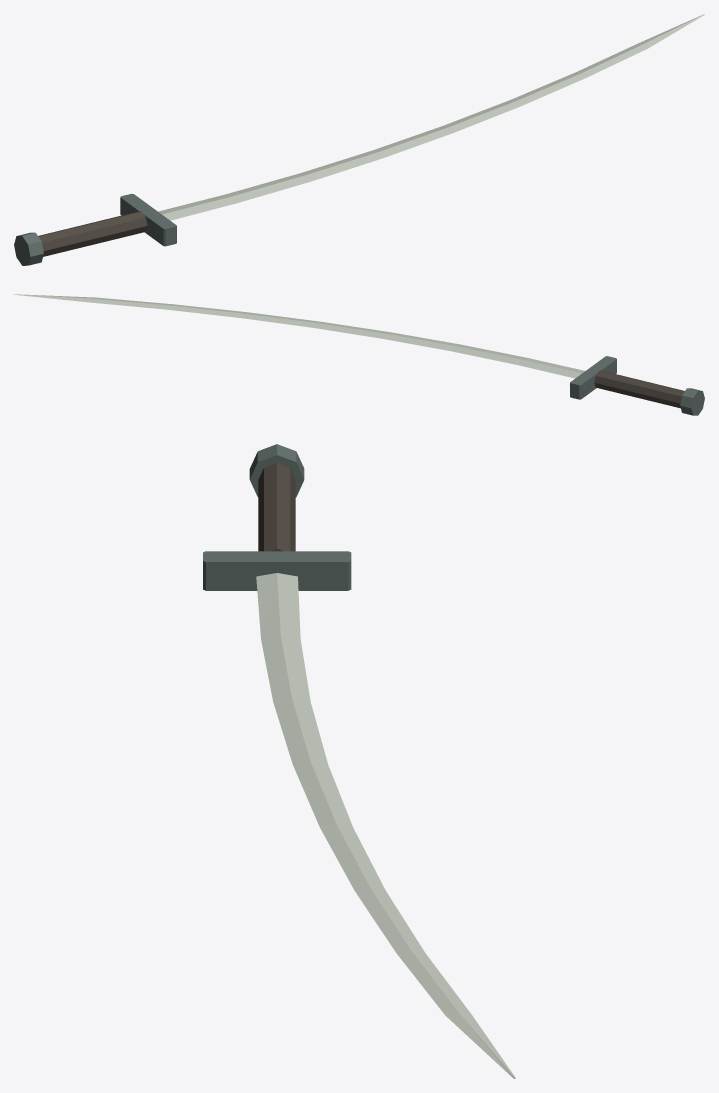
File: weapon-shamshir.glb
3 renders of one model, top to bottom at view 1: azimuth 30°, elevation 25°; view 2: azimuth 150°, elevation 25°; view 3: azimuth 270°, elevation 25°, orthographic. The views are drawn at different scales.
Visible parts, largest first — view 1: weapon-shamshir/faceted-distinct-blade, weapon-shamshir/eight-sided-handle, weapon-shamshir/transverse-crossguard, weapon-shamshir/handle-end-pommel; view 2: weapon-shamshir/faceted-distinct-blade, weapon-shamshir/eight-sided-handle, weapon-shamshir/transverse-crossguard, weapon-shamshir/handle-end-pommel; view 3: weapon-shamshir/faceted-distinct-blade, weapon-shamshir/transverse-crossguard, weapon-shamshir/eight-sided-handle, weapon-shamshir/handle-end-pommel.
Boxes of the visible parts, <box> form: weapon-shamshir/faceted-distinct-blade: <box>158,14,704,220</box>; weapon-shamshir/eight-sided-handle: <box>38,211,147,256</box>; weapon-shamshir/transverse-crossguard: <box>120,193,176,246</box>; weapon-shamshir/handle-end-pommel: <box>14,232,43,265</box>; weapon-shamshir/faceted-distinct-blade: <box>14,294,584,378</box>; weapon-shamshir/eight-sided-handle: <box>594,370,684,408</box>; weapon-shamshir/transverse-crossguard: <box>570,356,616,399</box>; weapon-shamshir/handle-end-pommel: <box>680,388,704,415</box>; weapon-shamshir/faceted-distinct-blade: <box>256,573,515,1078</box>; weapon-shamshir/transverse-crossguard: <box>203,551,351,590</box>; weapon-shamshir/eight-sided-handle: <box>258,463,295,551</box>; weapon-shamshir/handle-end-pommel: <box>249,444,304,497</box>.
Size of the model in its own units: 1 by 0.038 by 0.2175.
Materials: 3 (3 with a texture image).
